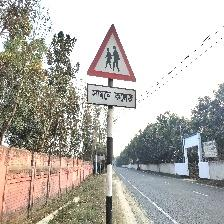College-in-front: (87, 18, 147, 104)
